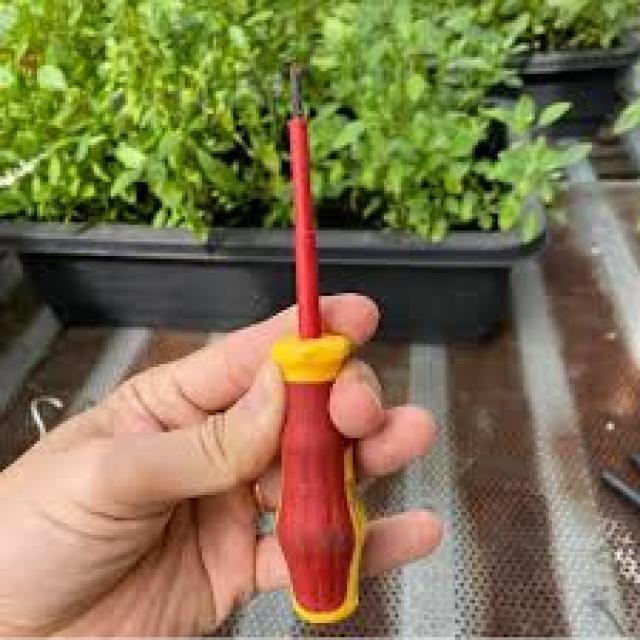screwdriver: (268, 59, 366, 628)
